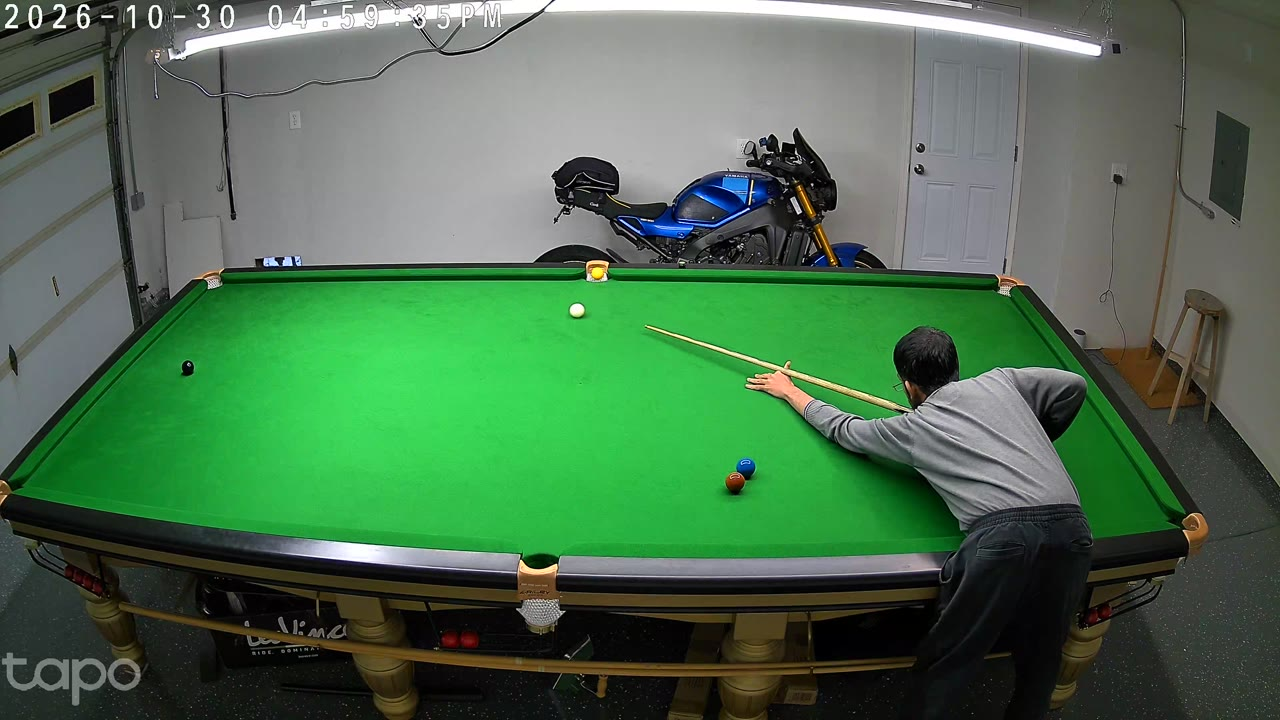black: (182, 358, 194, 378)
blue: (737, 455, 756, 482)
brown: (726, 471, 742, 495)
white: (570, 302, 584, 320)
yellow: (590, 264, 603, 279)
